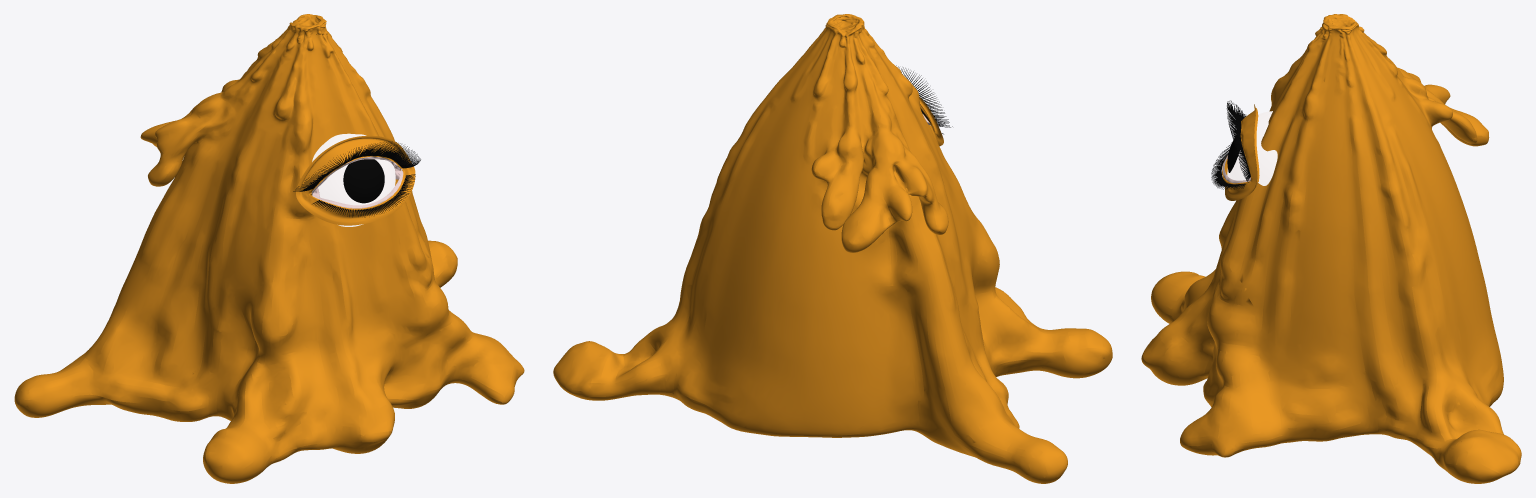
Rendered from eye2.fbx.
The picture shows the model from 3 angles, left to right: view 1: azimuth 30°, elevation 25°; view 2: azimuth 150°, elevation 25°; view 3: azimuth 270°, elevation 25°; orthographic projection. The views are drawn at different scales.
Visible parts, largest first — view 1: Candle 02; view 2: Candle 02; view 3: Candle 02.
Boxes of the visible parts, bbox=[...] form: Candle 02: bbox=[14, 14, 524, 483]; Candle 02: bbox=[553, 14, 1112, 483]; Candle 02: bbox=[1141, 14, 1521, 483].
Bounding box in the file's own units: 339 × 255 × 234.
